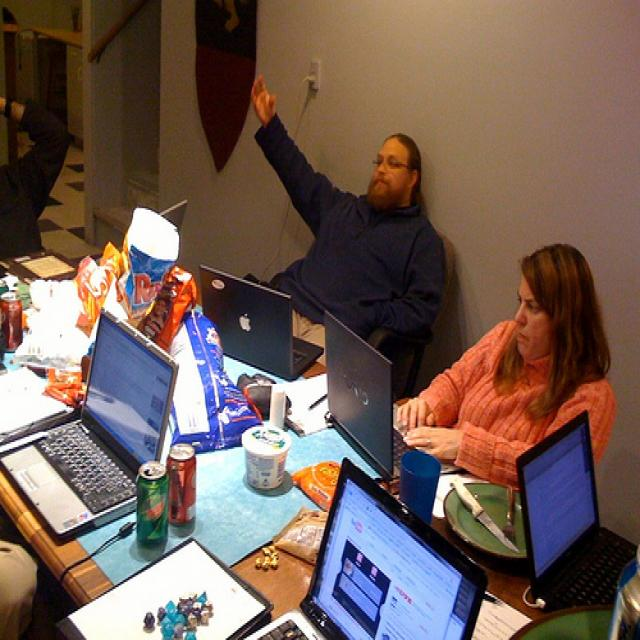chair: (367, 232, 454, 401)
dining table: (0, 428, 405, 619)
